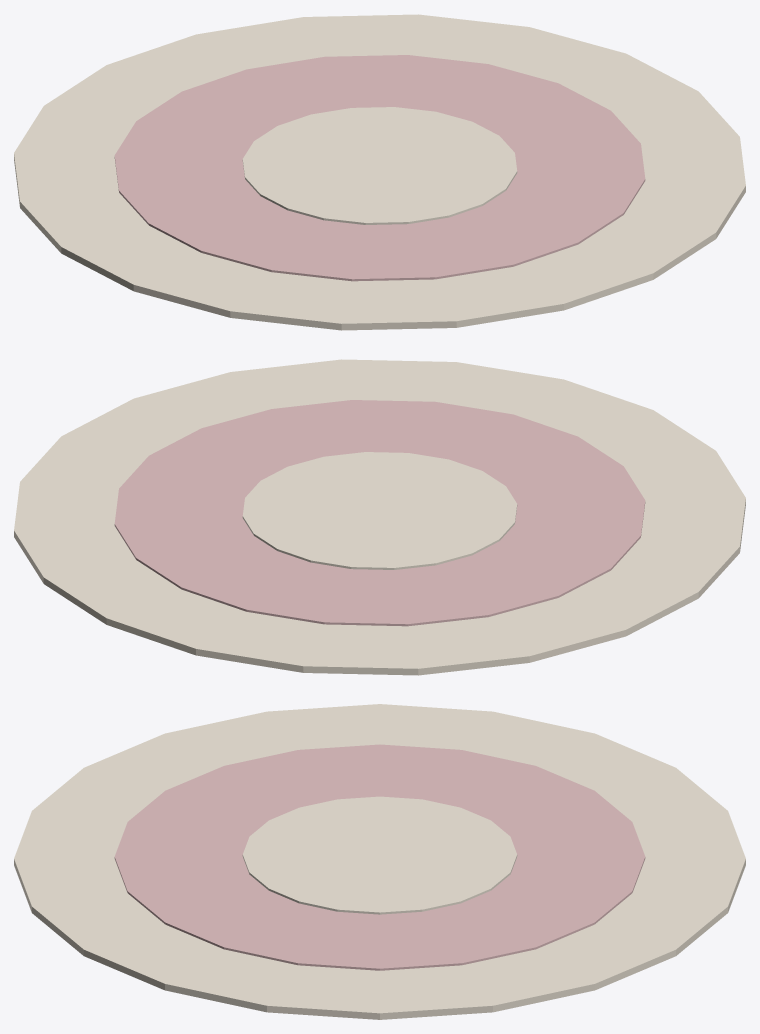
Rendered from SM_Rug_02.fbx.
The picture shows the model from 3 angles, top to bottom: view 1: azimuth 30°, elevation 25°; view 2: azimuth 150°, elevation 25°; view 3: azimuth 270°, elevation 25°; orthographic projection.
Visible parts, largest first — view 1: Rug_02; view 2: Rug_02; view 3: Rug_02.
Boxes of the visible parts, <box> form: Rug_02: <box>14,14,745,330</box>; Rug_02: <box>14,359,745,675</box>; Rug_02: <box>14,704,745,1019</box>.
Bounding box in the file's own units: 160 × 2.6 × 160.
